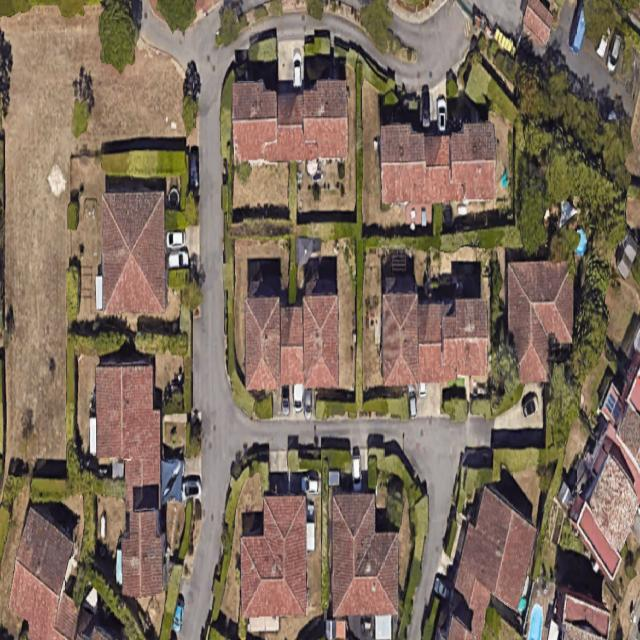maison: (96, 363, 160, 511), (506, 261, 575, 384), (331, 493, 399, 616), (240, 496, 307, 619), (101, 191, 165, 314), (434, 121, 501, 202), (430, 298, 488, 383), (232, 80, 292, 161), (243, 295, 294, 390), (290, 79, 349, 160), (381, 124, 436, 204), (382, 294, 430, 385), (293, 295, 338, 388), (121, 509, 163, 599)
